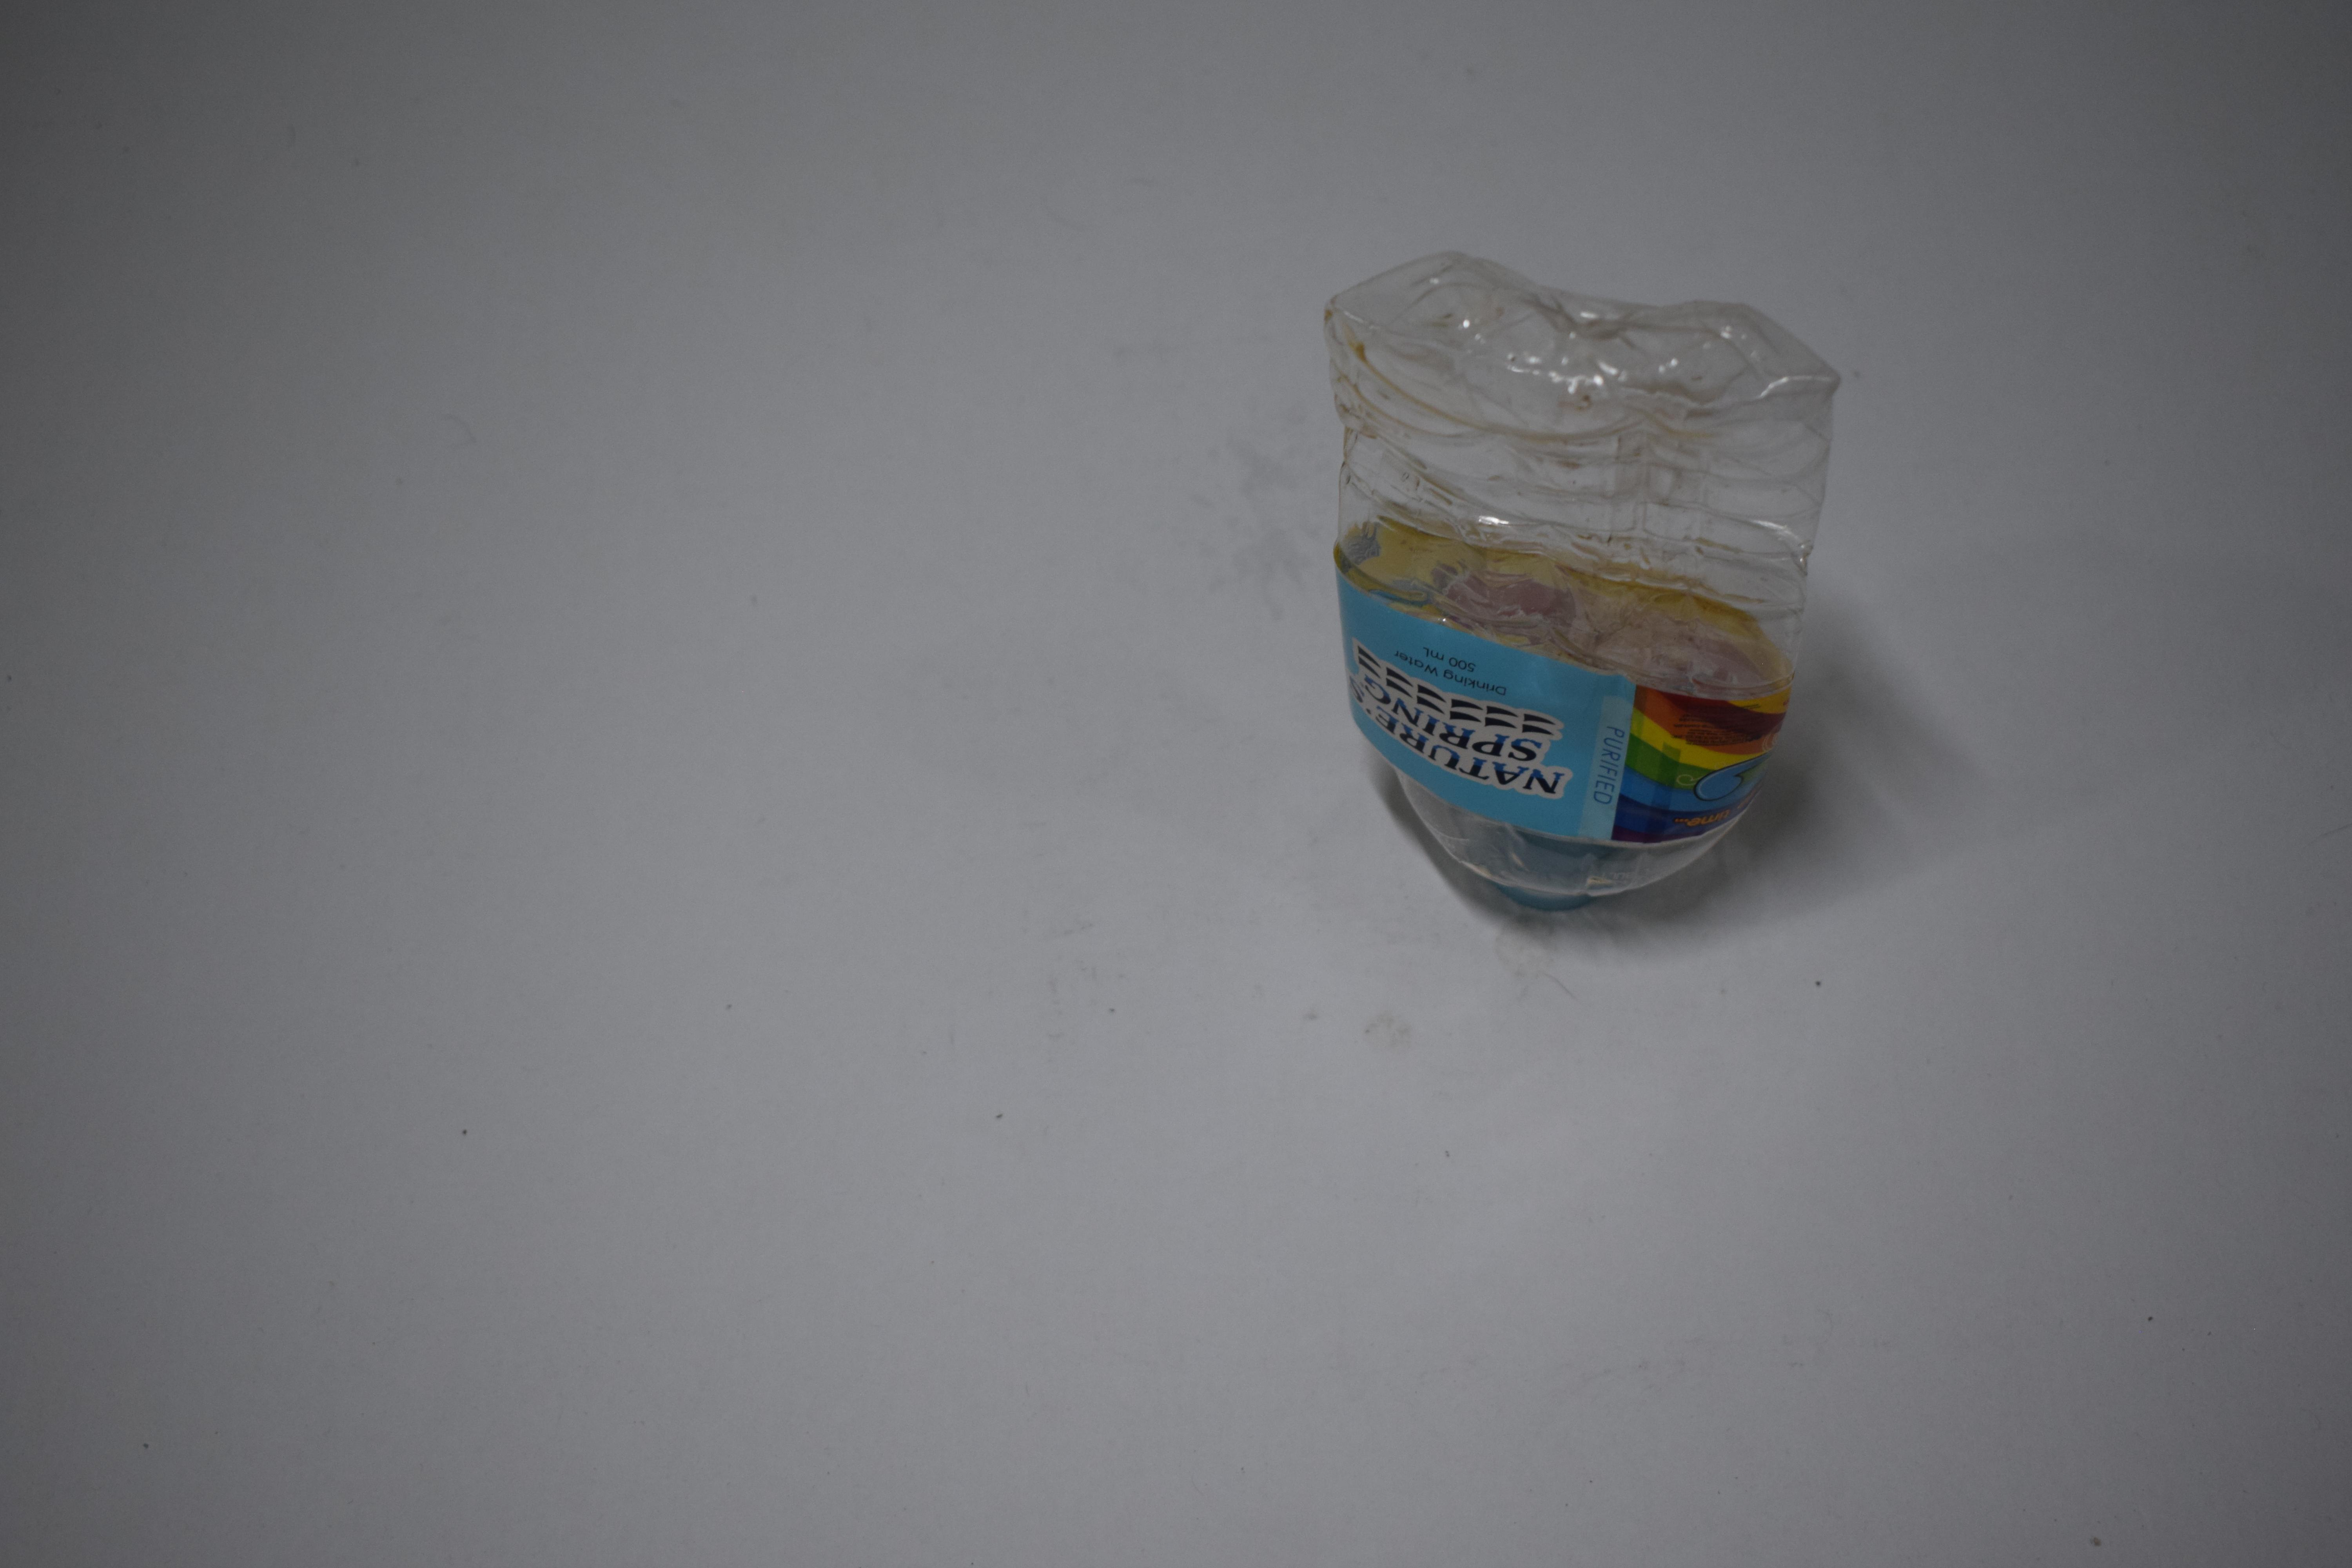bottle: (1312, 243, 1850, 917)
